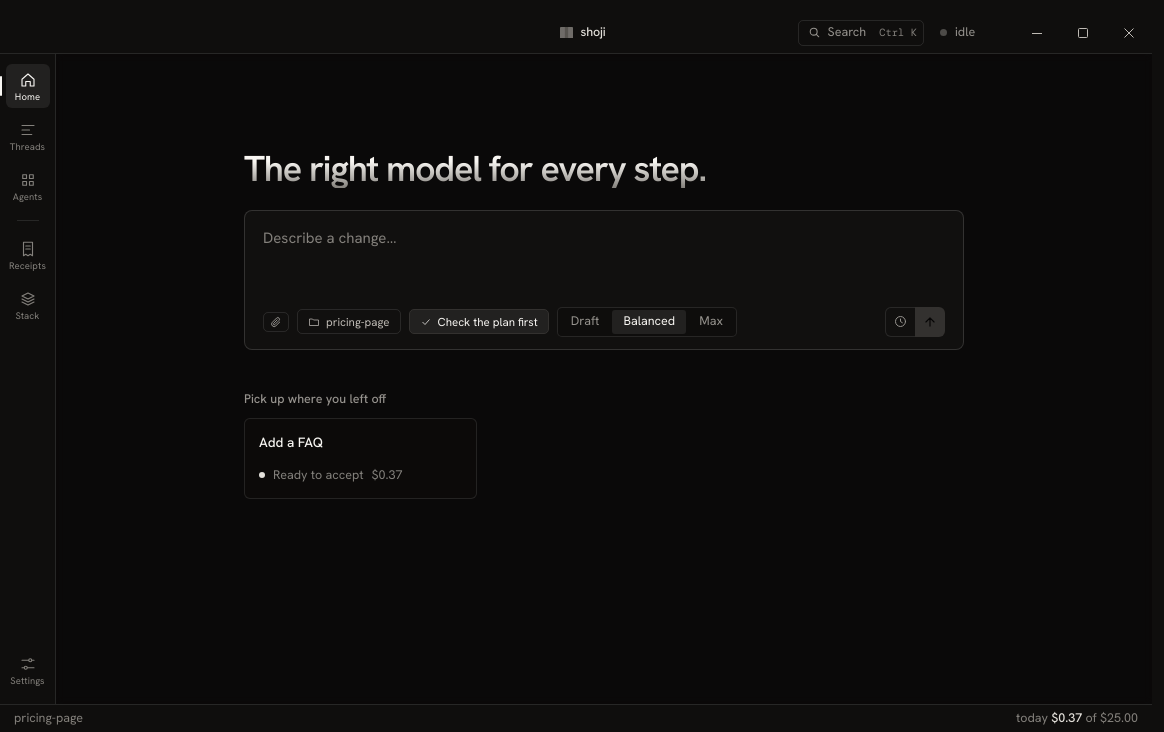
Test case: the routing receipt at Accept › shows what routing did and saved over the review bar, and opens the thread's receipt
Click the button "Threads" at (28, 136), box top-left (6, 114), bottom-right (50, 158)
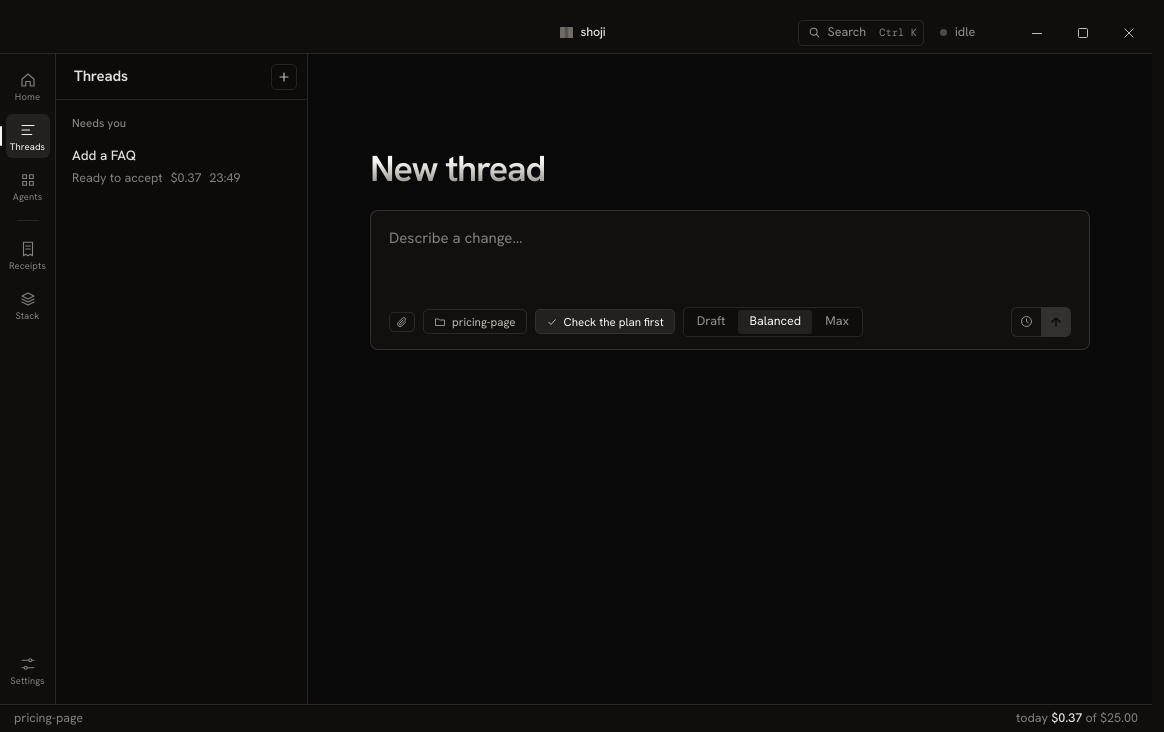
Click the button "Add a FAQ Ready to accept $0.37 23:49" at (182, 166), box top-left (62, 137), bottom-right (301, 195)
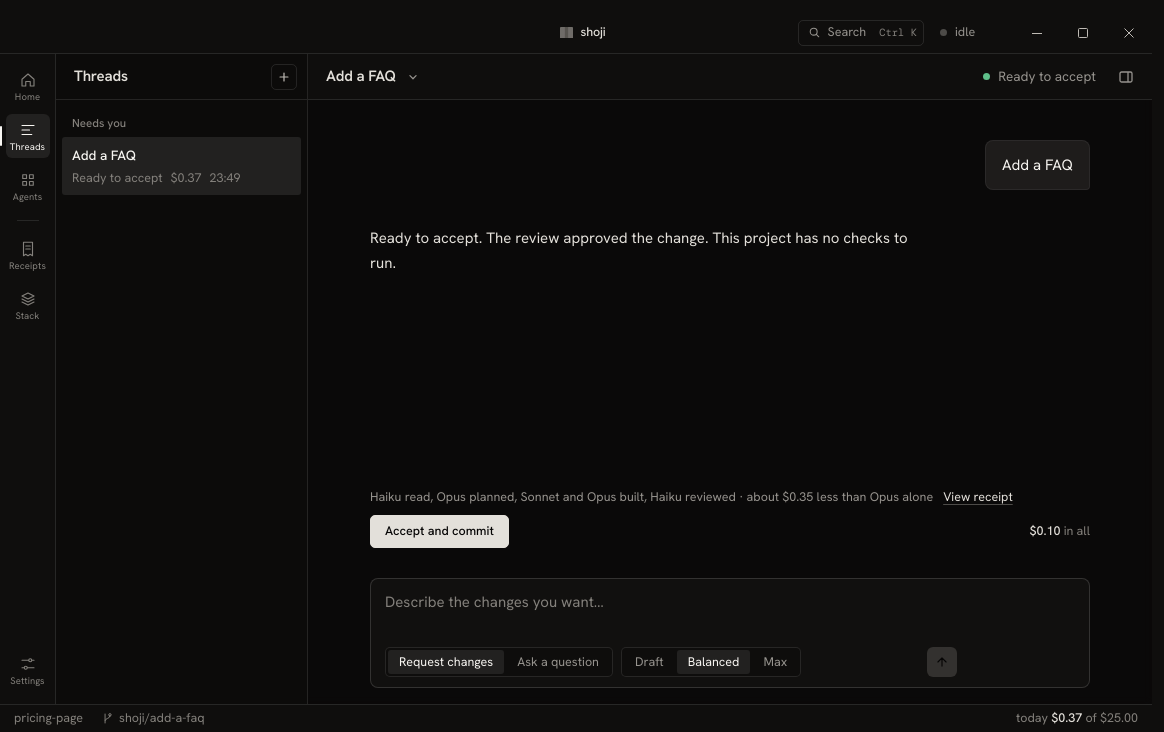
Check: the button "Accept and commit" is shown, box top-left (370, 515), bottom-right (509, 548)
Click the button "View receipt" at (978, 497), box top-left (943, 488), bottom-right (1013, 507)
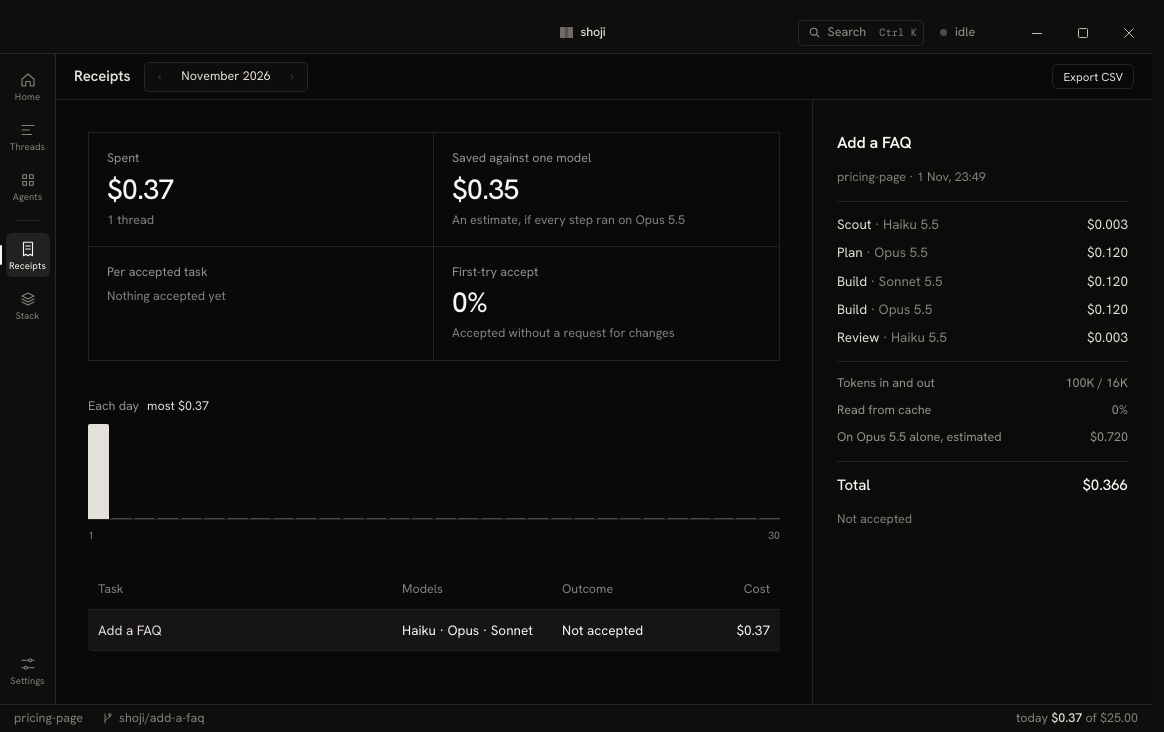
Check: the row "Add a FAQ Haiku · Opus · Sonnet Not accepted $0.37" is shown, box top-left (88, 610), bottom-right (780, 651)
